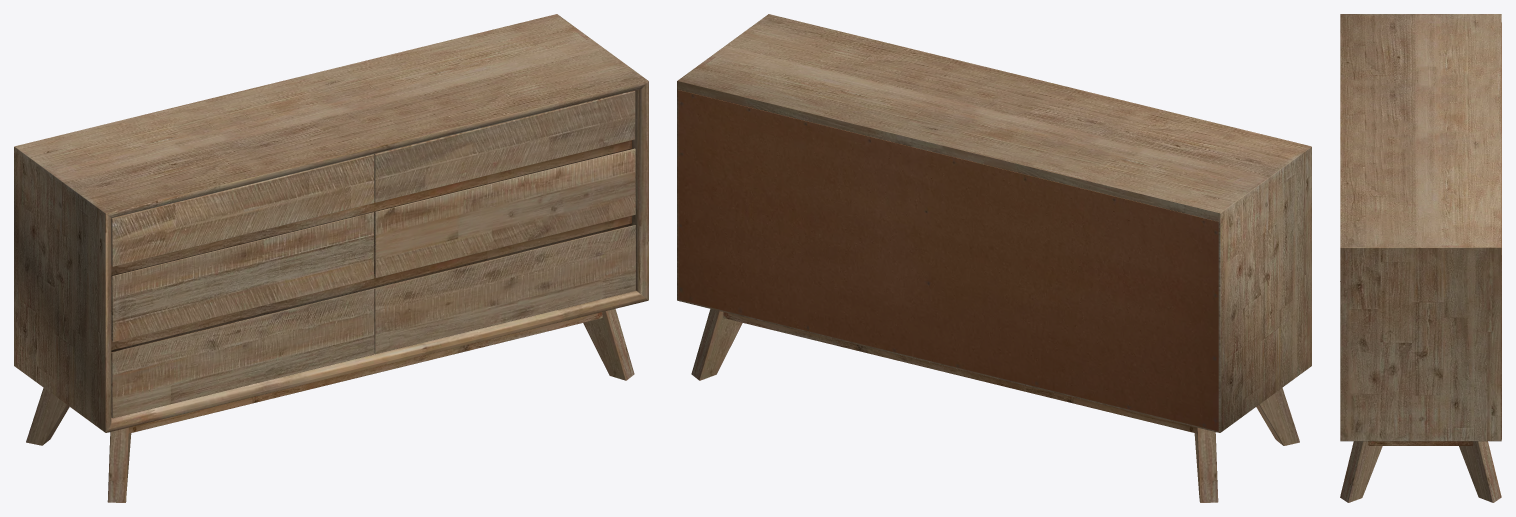
File: dresser_abo_B07HSNQW37.glb
3 renders of one model, left to right at view 1: azimuth 30°, elevation 25°; view 2: azimuth 150°, elevation 25°; view 3: azimuth 270°, elevation 25°, orthographic. The views are drawn at different scales.
Parts seen in each view (by area): view 1: RootNode; view 2: RootNode; view 3: RootNode.
Boxes of the visible parts, x1=… form: RootNode: x1=14, y1=14, x2=648, y2=502; RootNode: x1=677, y1=14, x2=1311, y2=502; RootNode: x1=1340, y1=14, x2=1501, y2=502.
Bounding box in the file's own units: 1.55 × 0.8048 × 0.4547.
Materials: 1 (1 with a texture image).
